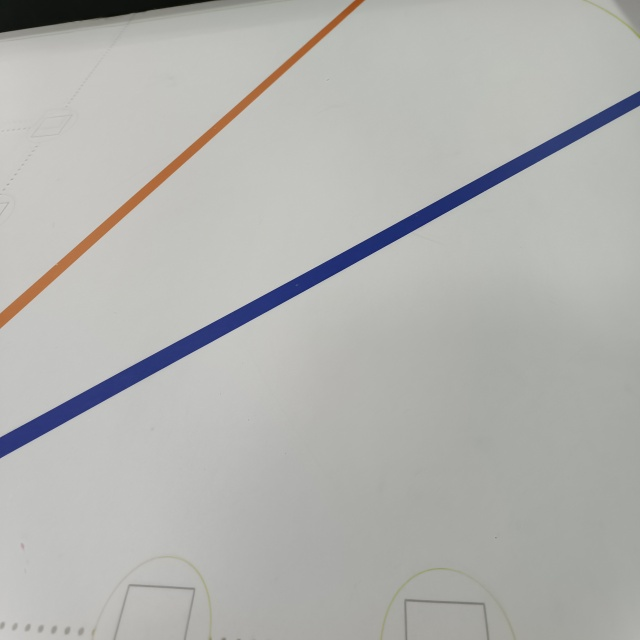blue line: (0, 86, 639, 463)
orange line: (1, 0, 371, 331)
